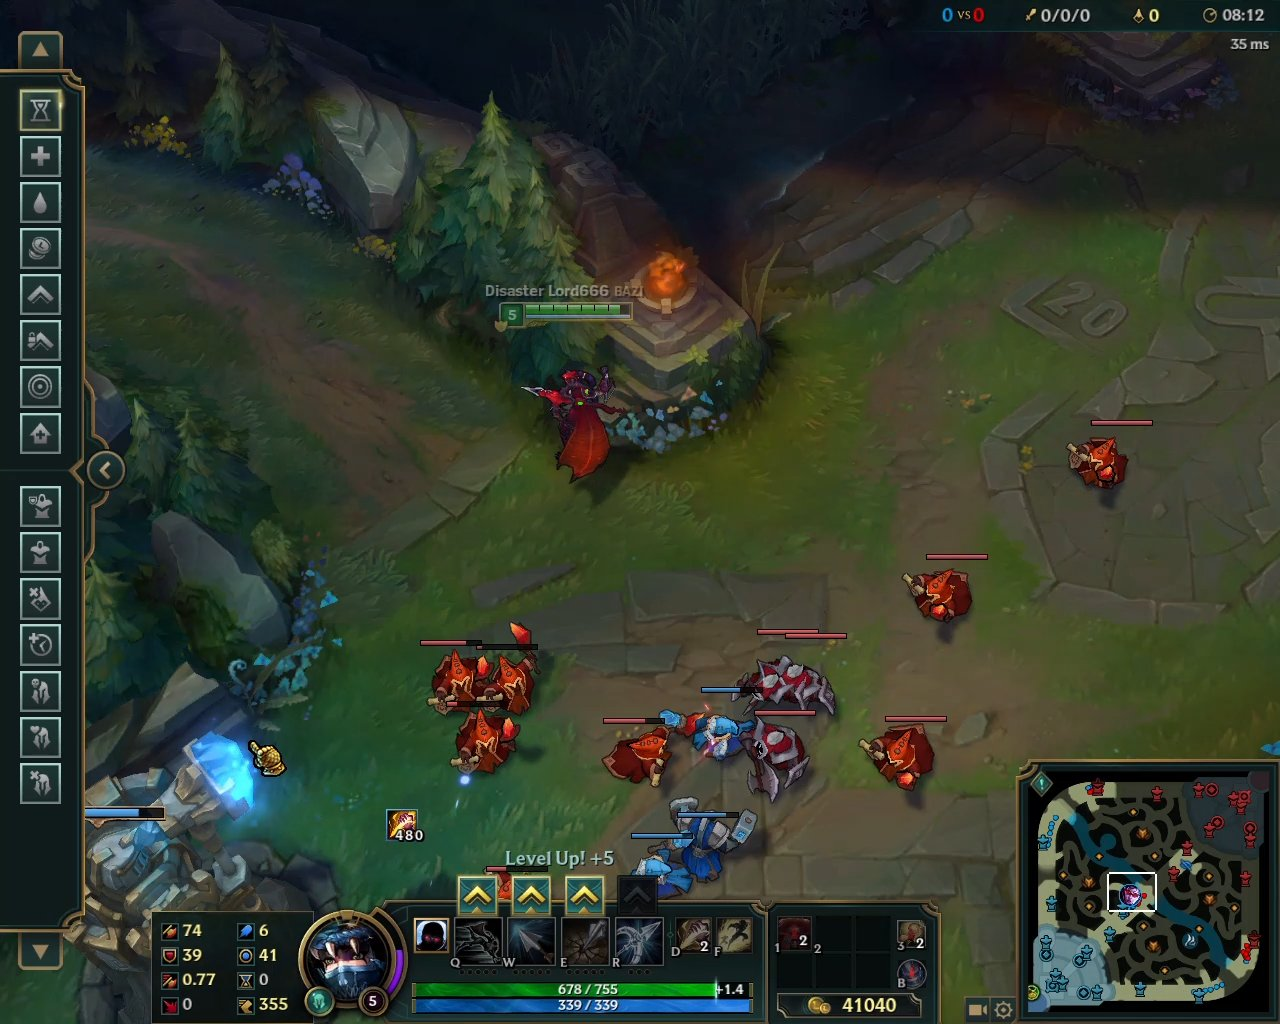EnemyMinion: (1058, 420, 1154, 497), (857, 714, 944, 796), (741, 708, 814, 806), (413, 632, 492, 718), (476, 622, 551, 713), (902, 553, 990, 628), (443, 699, 517, 785), (766, 634, 848, 709), (600, 713, 672, 792)
Vayne: (517, 347, 621, 490)
